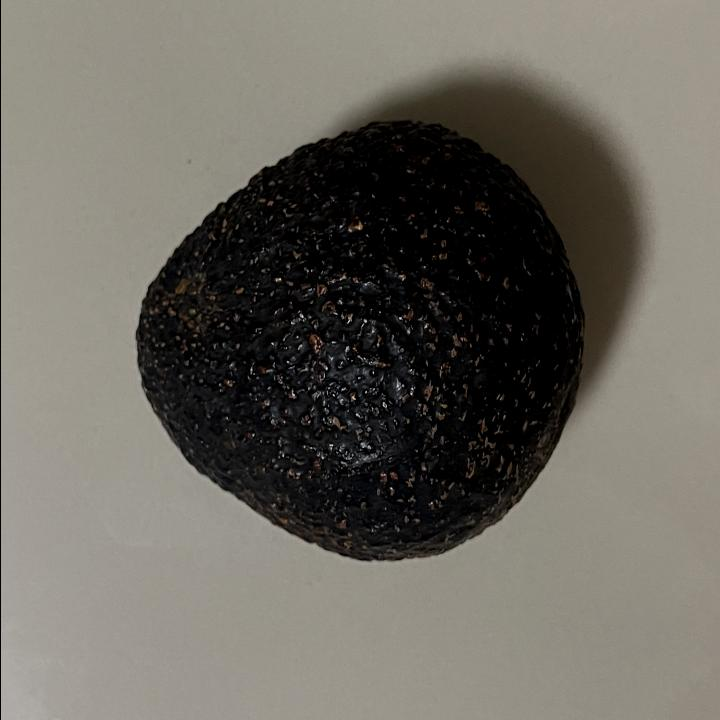Level3: (123, 110, 593, 576)
